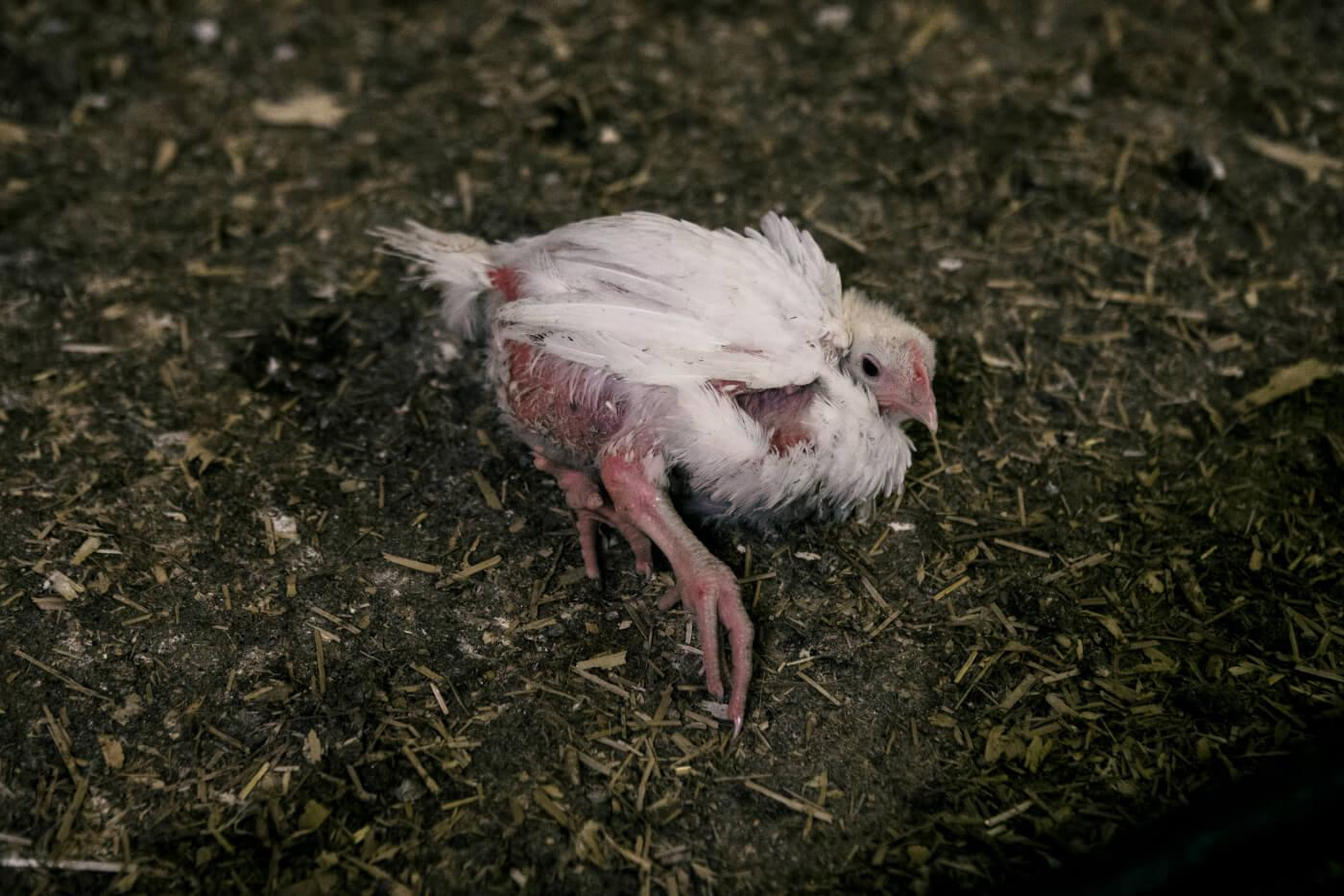AbNormal: (367, 200, 974, 717)
